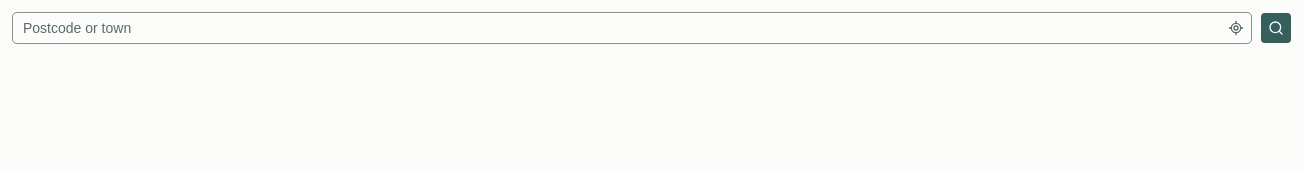
Test: SearchBox › says so when the browser won't share the position, until the box is typed in
The width and height of the screenshot is (1304, 172).
Click the 1st button named "Use my location" at point(1236, 28), box [1222, 14, 1250, 42]
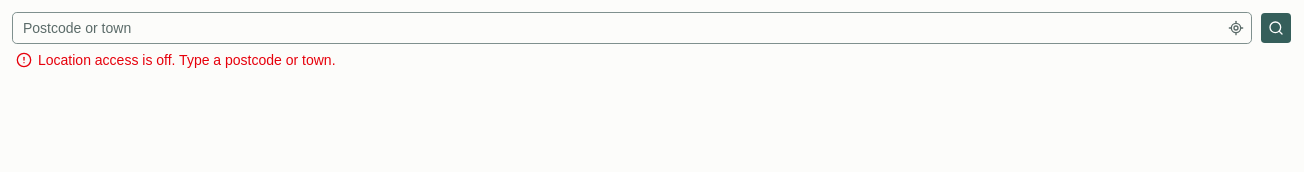
Now the message reads "Location access is off. Type a postcode or town.", box [38, 52, 336, 68]
Type "L" into the field named "Location" at point(632, 28), box [12, 12, 1252, 44]
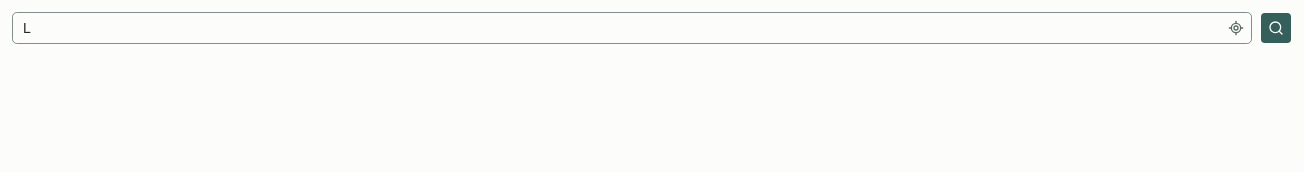
Now the message "Location access is off. Type a postcode or town." is gone
